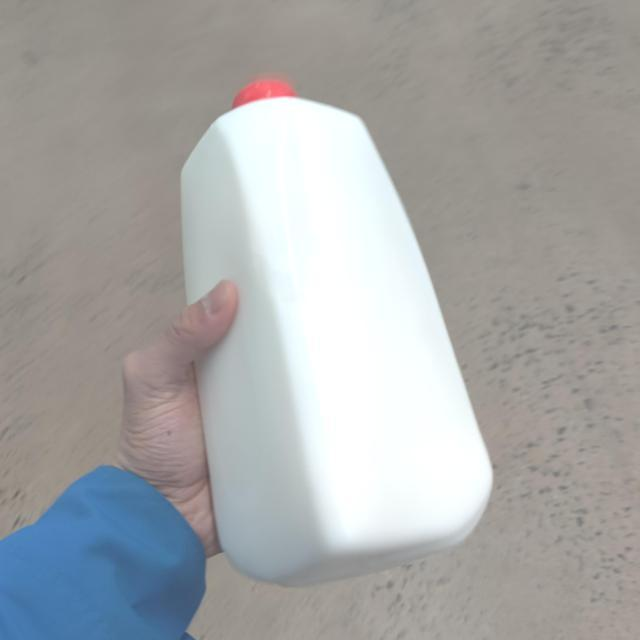Milk: (143, 62, 516, 590)
